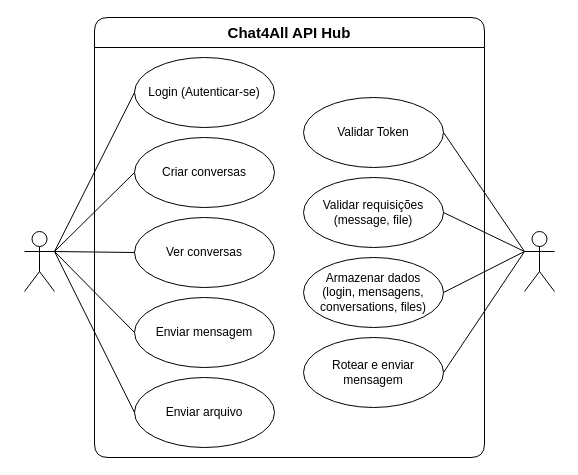
Image size: 578x475. Some labels were removed from this diagram. The shapes that lost their labels are listed below. From the top down, each one's centre as x and y in pixels, then its label:
[39,261]: Usuário (Cliente)
[539,261]: Sistema (API)
